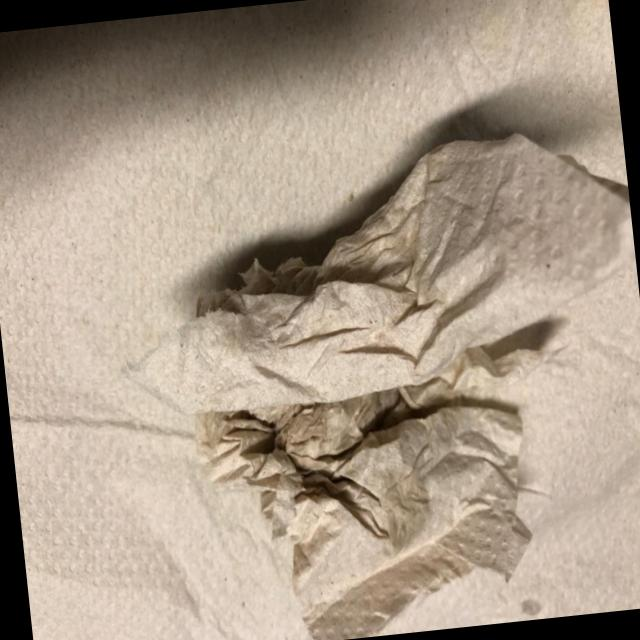organic waste: (151, 121, 640, 640)
